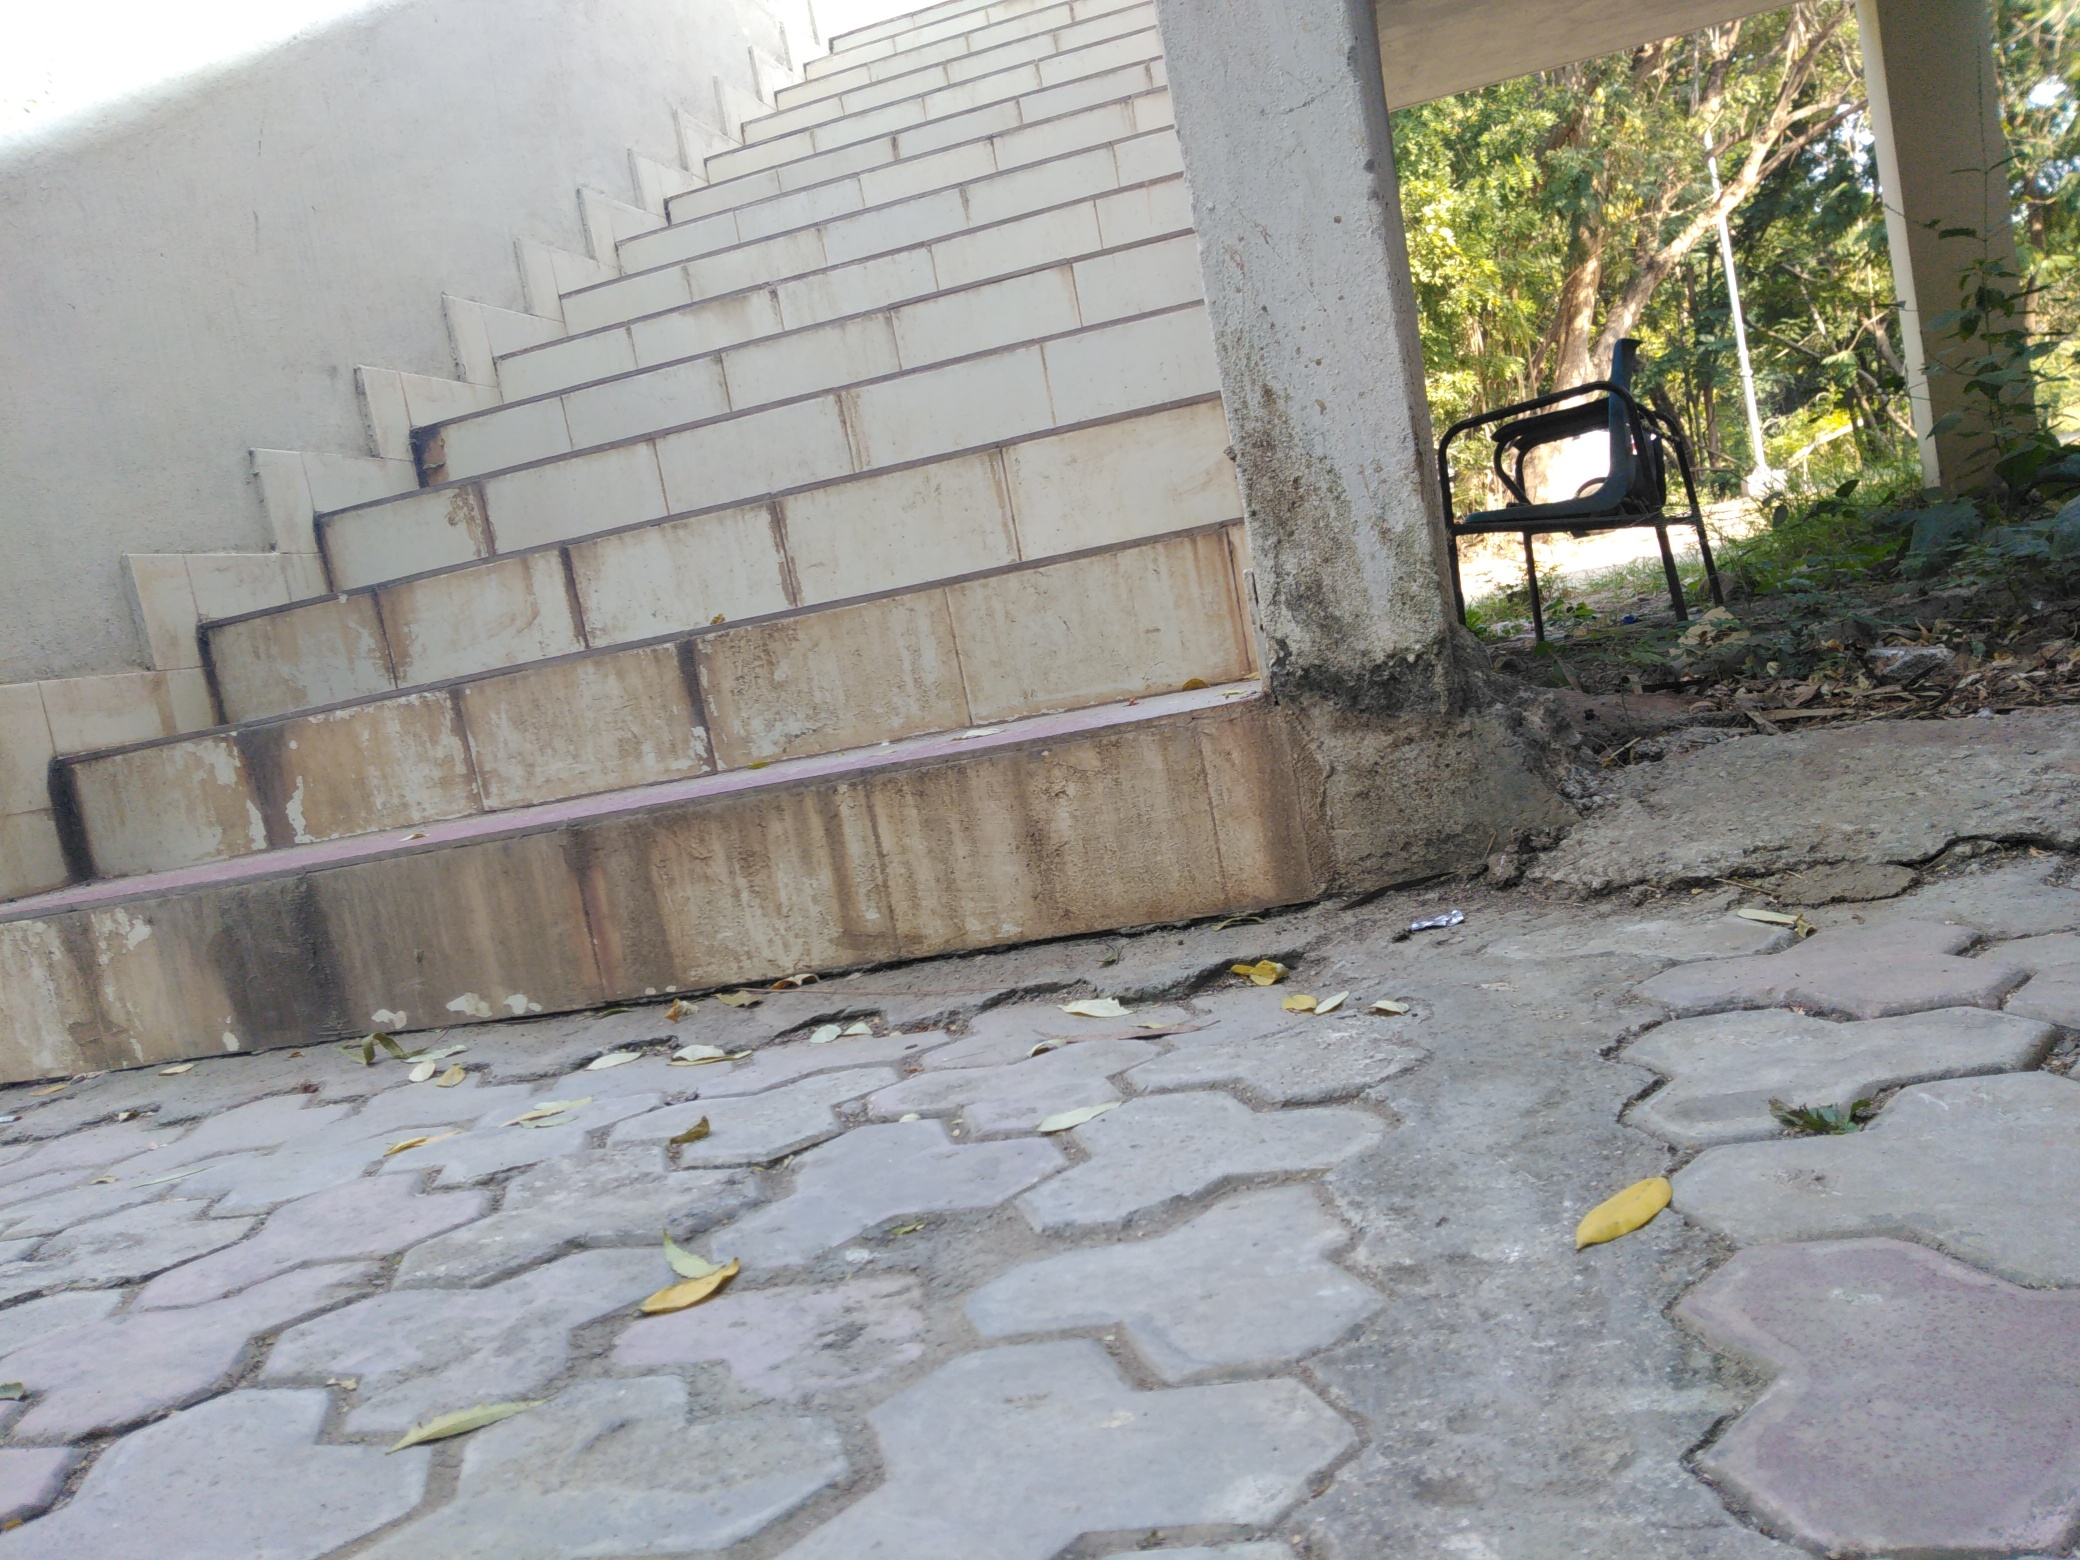stairs_up: (21, 5, 1158, 1039)
